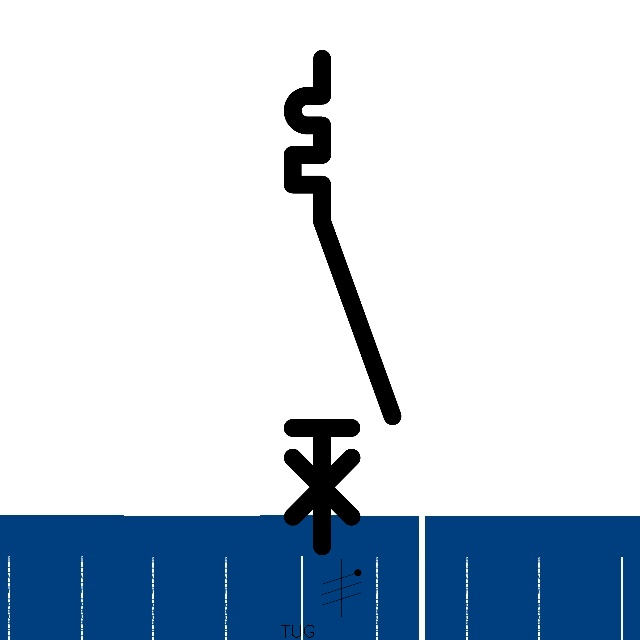interruptor_termomagnetico: (280, 46, 405, 559)
